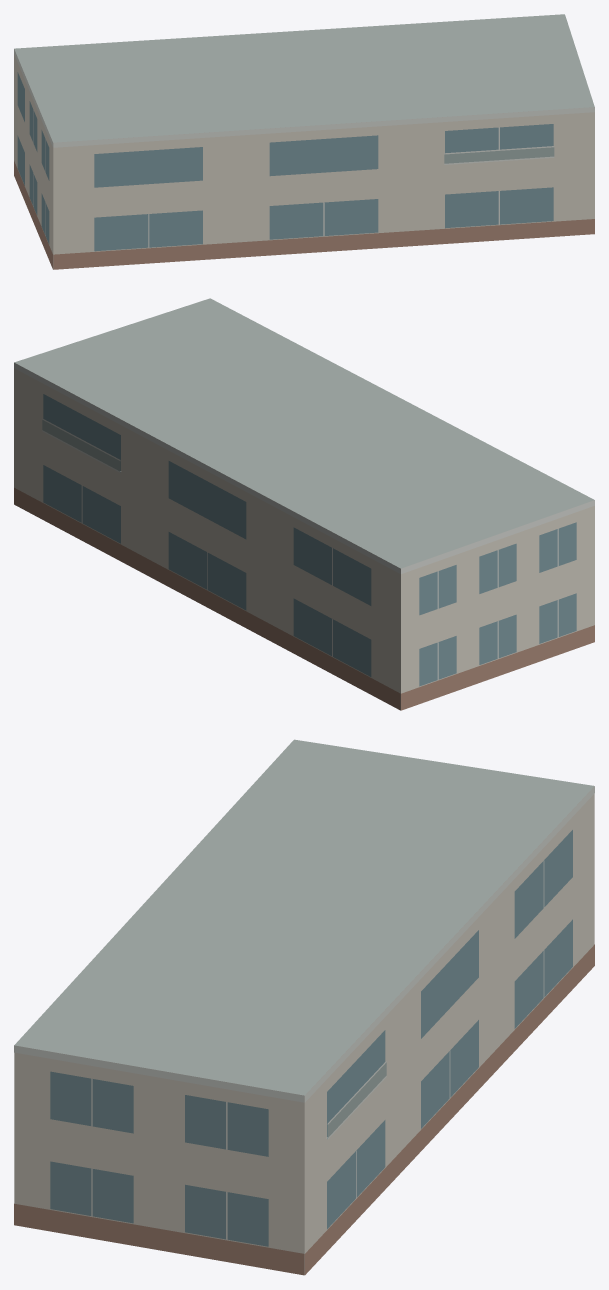
File: survey-upis-32596167.glb
3 views of the same model, one above another, from view 1: azimuth 30°, elevation 25°; view 2: azimuth 150°, elevation 25°; view 3: azimuth 270°, elevation 25° (orthographic). The views are drawn at different scales.
Parts seen in each view (by area): view 1: survey-upis-32596167.tmp; view 2: survey-upis-32596167.tmp; view 3: survey-upis-32596167.tmp.
Boxes of the visible parts, x1=… form: survey-upis-32596167.tmp: x1=14, y1=14, x2=594, y2=269; survey-upis-32596167.tmp: x1=14, y1=298, x2=594, y2=710; survey-upis-32596167.tmp: x1=14, y1=739, x2=594, y2=1275.
Bounding box in the file's own units: 25.92 × 6.1 × 17.87.
